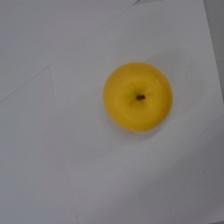yellow: (101, 61, 172, 133)
